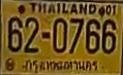0: (52, 17, 67, 52)
2: (24, 17, 38, 52)
6: (7, 16, 22, 51), (86, 18, 100, 53), (101, 18, 115, 53)
7: (69, 17, 83, 53)
BKK: (24, 58, 100, 74)
